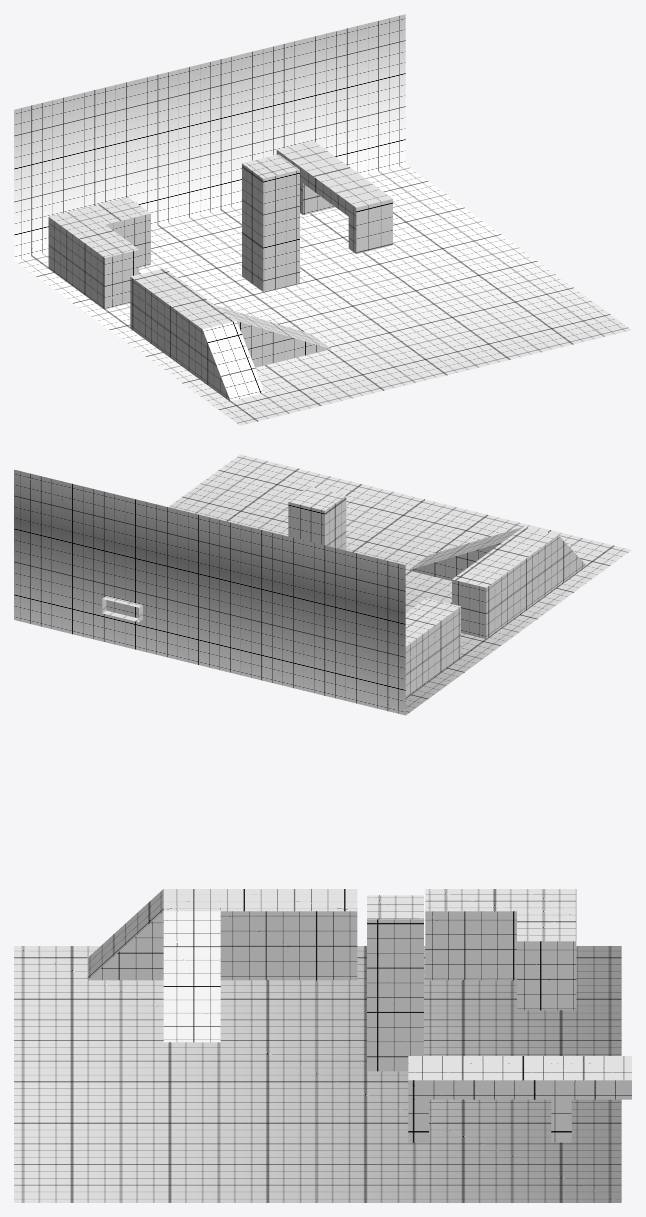
Rendered from playground.gltf.
3 views of the same model, one above another, from view 1: azimuth 30°, elevation 25°; view 2: azimuth 150°, elevation 25°; view 3: azimuth 270°, elevation 25° (orthographic). The views are drawn at different scales.
Parts seen in each view (by area): view 1: Plane, Cube, Cube.001, Cube.003, Cube.002; view 2: Plane, Cube, Cube.001, Cube.003, Cube.002; view 3: Plane, Cube, Cube.001, Cube.002, Cube.003.
Part boxes in pixels (x1=…): Plane: x1=14, y1=14, x2=631, y2=425; Cube: x1=130, y1=268, x2=330, y2=401; Cube.001: x1=48, y1=197, x2=150, y2=309; Cube.003: x1=242, y1=154, x2=299, y2=291; Cube.002: x1=276, y1=140, x2=392, y2=253; Plane: x1=14, y1=454, x2=631, y2=715; Cube: x1=408, y1=526, x2=586, y2=638; Cube.001: x1=405, y1=598, x2=460, y2=697; Cube.003: x1=288, y1=486, x2=346, y2=550; Cube.002: x1=102, y1=596, x2=142, y2=622; Plane: x1=14, y1=946, x2=621, y2=1202; Cube: x1=87, y1=889, x2=357, y2=1042; Cube.001: x1=425, y1=889, x2=576, y2=1010; Cube.002: x1=408, y1=1056, x2=631, y2=1142; Cube.003: x1=367, y1=895, x2=423, y2=1071.
Size of the model in its own units: 21.32 by 8.7 by 21.68.
Materials: 1 (1 with a texture image).
